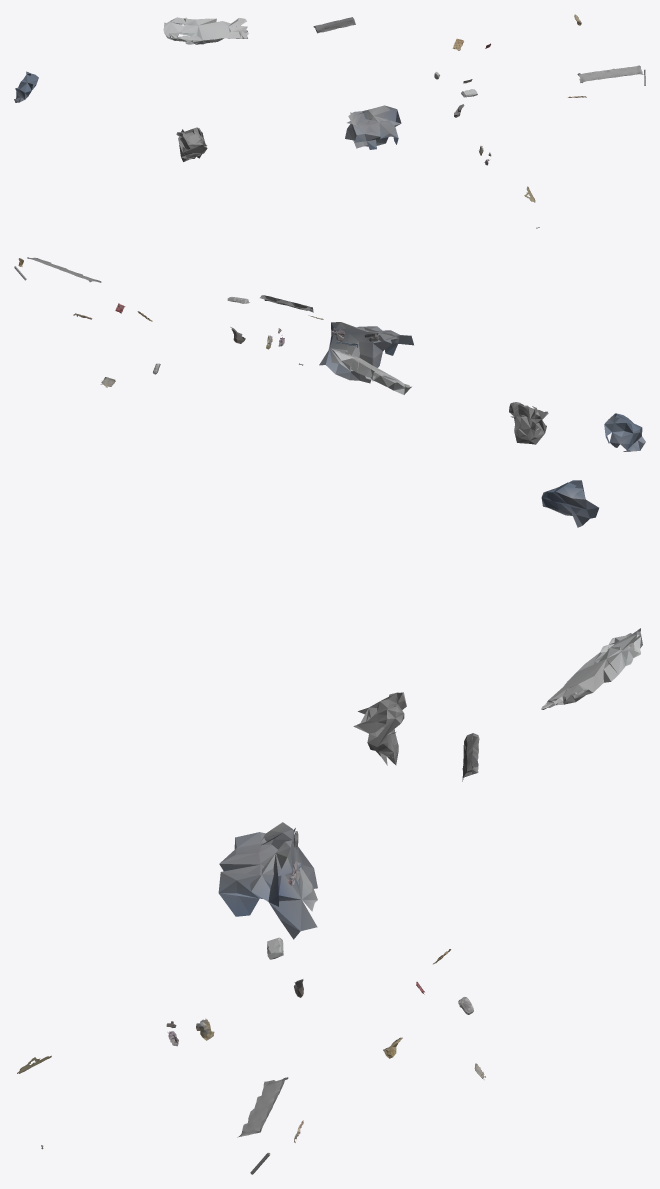
The model's file is models-1-0.glb.
3 renders of one model, top to bottom at view 1: azimuth 30°, elevation 25°; view 2: azimuth 150°, elevation 25°; view 3: azimuth 270°, elevation 25°, orthographic. The views are drawn at different scales.
Parts seen in each view (by area): view 1: obj-1-1424, obj-1-482, obj-1-612, obj-1-1392, obj-1-1170, obj-1-1262, obj-1-1288; view 2: obj-1-482, obj-1-1392, obj-1-1262, obj-1-1424, obj-1-612, obj-1-1288; view 3: obj-1-482, obj-1-612, obj-1-1424, obj-1-1392, obj-1-1262, obj-1-1170.
Boxes of the visible parts, bbox=[...] form: obj-1-1424: bbox=[163, 17, 248, 44]; obj-1-482: bbox=[345, 105, 401, 148]; obj-1-612: bbox=[347, 112, 398, 149]; obj-1-1392: bbox=[176, 127, 207, 161]; obj-1-1170: bbox=[577, 65, 643, 82]; obj-1-1262: bbox=[14, 71, 38, 102]; obj-1-1288: bbox=[313, 17, 355, 33]; obj-1-482: bbox=[319, 322, 398, 383]; obj-1-1392: bbox=[509, 402, 548, 444]; obj-1-1262: bbox=[604, 413, 645, 451]; obj-1-1424: bbox=[332, 349, 411, 394]; obj-1-612: bbox=[357, 326, 413, 355]; obj-1-1288: bbox=[260, 295, 313, 312]; obj-1-482: bbox=[250, 822, 317, 939]; obj-1-612: bbox=[218, 828, 295, 916]; obj-1-1424: bbox=[541, 628, 642, 709]; obj-1-1392: bbox=[353, 692, 406, 765]; obj-1-1262: bbox=[541, 480, 598, 527]; obj-1-1170: bbox=[237, 1077, 288, 1137].
Bounding box in the file's own units: 20.4 × 5.34 × 9.91.
